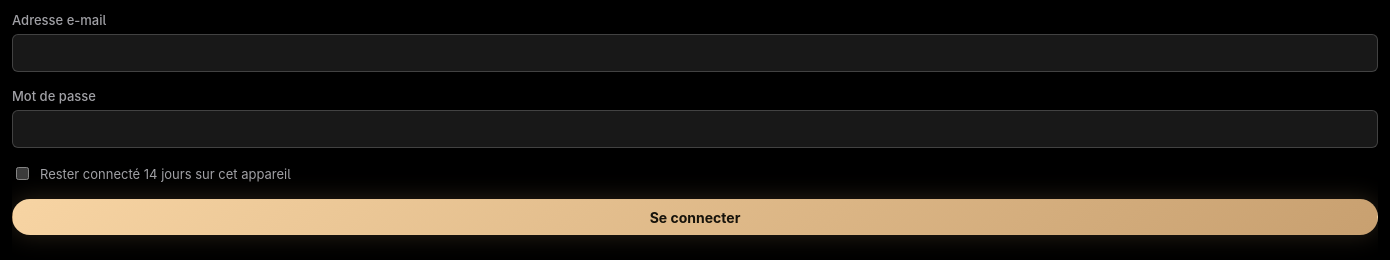
LoginForm › disables the submit control while the request is in flight
The image size is (1390, 260).
In the field labelled "Adresse e-mail": (695, 53) [12,34,1378,72], type "owner@example.test"
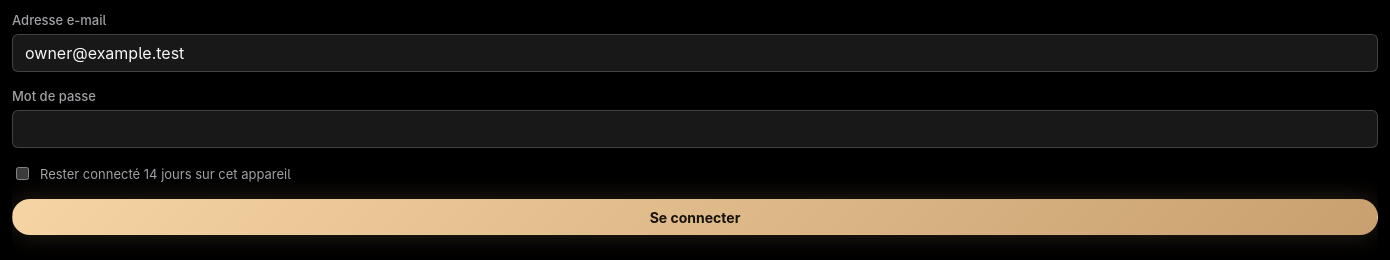
In the password field labelled "Mot de passe": (695, 129) [12,110,1378,148], type "correct horse battery"
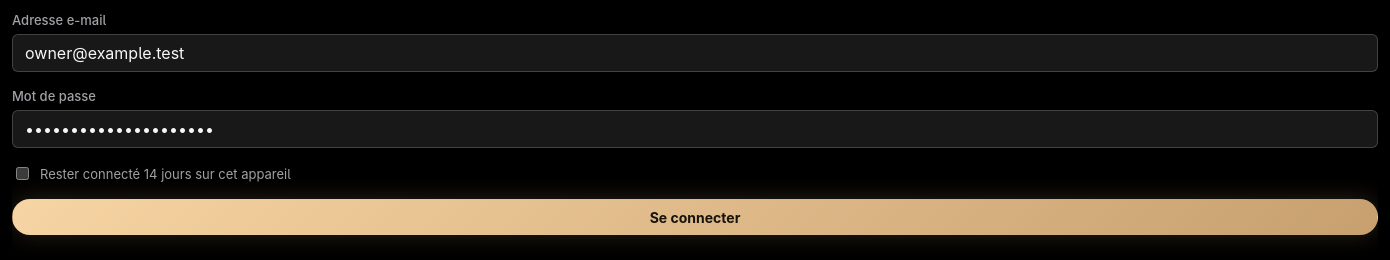
Submit the form from the button "Se connecter", box [12,199,1378,235]
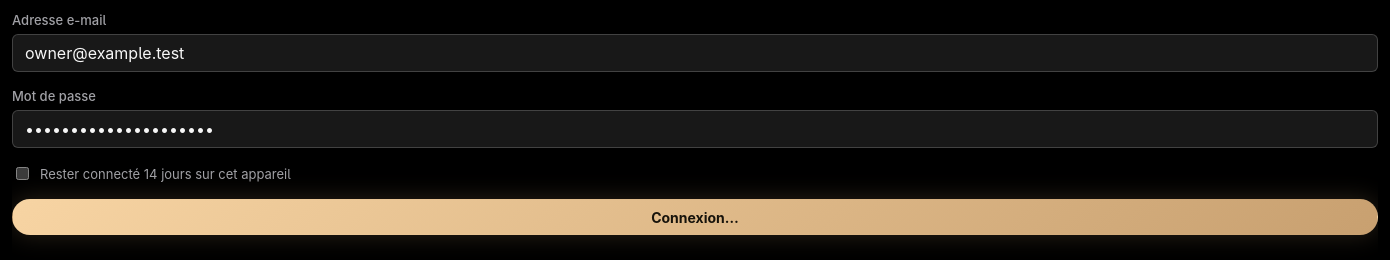
Now the button "Connexion…" is disabled, box [12,199,1378,235]
